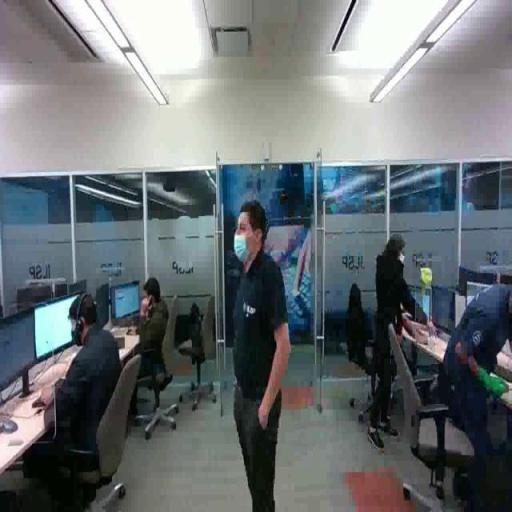person: (227, 190, 293, 512), (369, 231, 414, 453)
